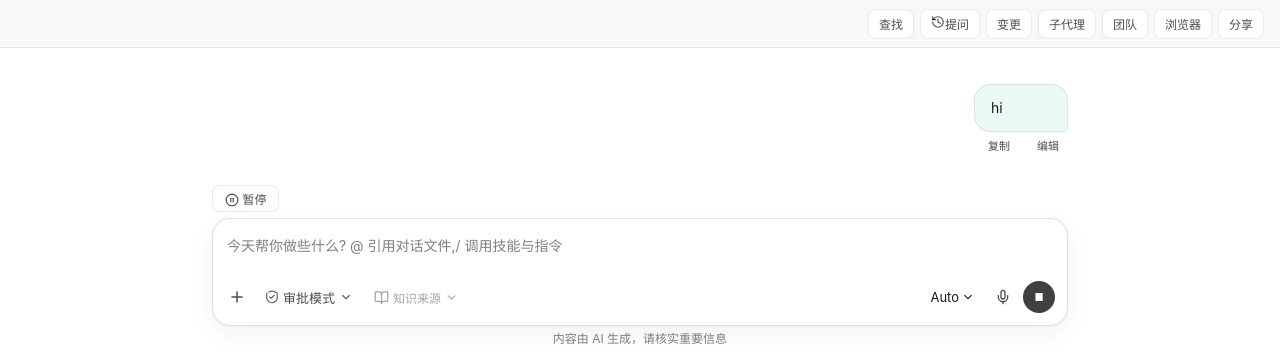
Test: ChatView pause/yield/resume 闭环 › 流式时复制历史消息会暂停自动跟随，可手动回到最新
Press the mouse on the button "复制": x=999, y=147 [974,136,1024,157]
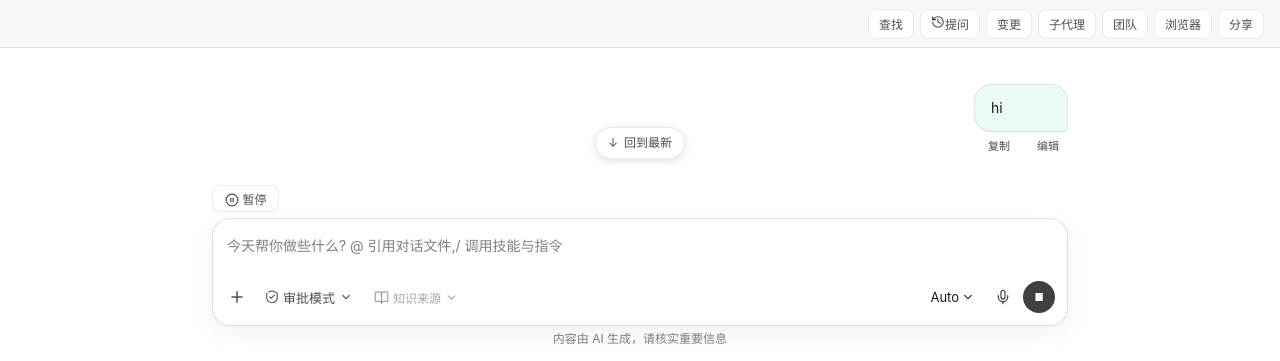
Click the button with aria-label "回到最新消息并恢复自动跟随": x=640, y=143 [595,127,685,159]
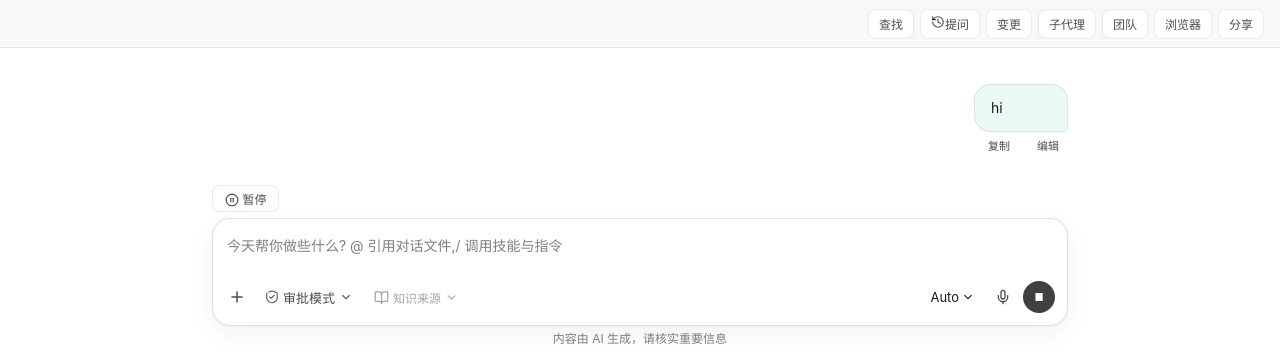
Check: the button "回到最新消息并恢复自动跟随" is gone
